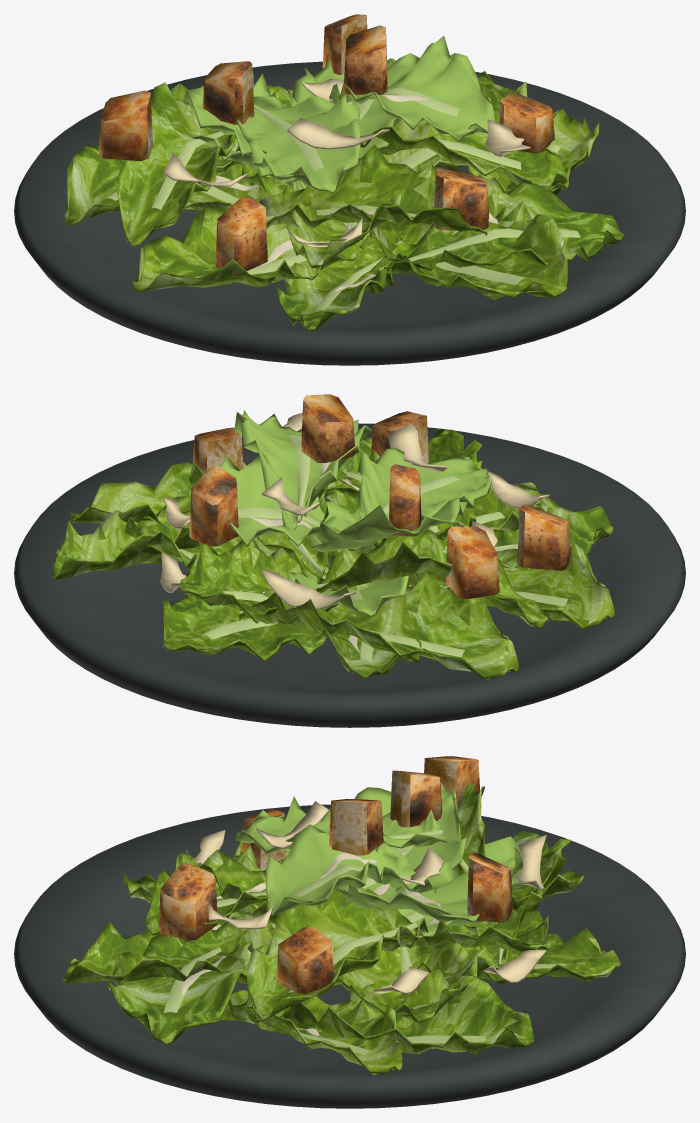
File: salada-caesar.glb
3 views of the same model, one above another, from view 1: azimuth 30°, elevation 25°; view 2: azimuth 150°, elevation 25°; view 3: azimuth 270°, elevation 25° (orthographic).
Parts seen in each view (by area): view 1: SM_Caesar_REAL-alface-romana, Prato003, SM_Caesar_REAL-coracao-romana, SM_Caesar_REAL-massa-assada, SM_Caesar_REAL-talo-romana, SM_Caesar_REAL-parmesao-curado, SM_Caesar_REAL-miolo, SM_Caesar_REAL-molho-caesar; view 2: Prato003, SM_Caesar_REAL-alface-romana, SM_Caesar_REAL-coracao-romana, SM_Caesar_REAL-massa-assada, SM_Caesar_REAL-parmesao-curado, SM_Caesar_REAL-talo-romana, SM_Caesar_REAL-miolo, SM_Caesar_REAL-molho-caesar; view 3: Prato003, SM_Caesar_REAL-alface-romana, SM_Caesar_REAL-coracao-romana, SM_Caesar_REAL-massa-assada, SM_Caesar_REAL-parmesao-curado, SM_Caesar_REAL-miolo, SM_Caesar_REAL-talo-romana, SM_Caesar_REAL-molho-caesar.
Part boxes in pixels (x1,y1,x2,y2): SM_Caesar_REAL-alface-romana: (65,71,624,331); Prato003: (14,61,685,365); SM_Caesar_REAL-coracao-romana: (184,36,495,193); SM_Caesar_REAL-massa-assada: (98,14,554,273); SM_Caesar_REAL-talo-romana: (106,87,580,311); SM_Caesar_REAL-parmesao-curado: (163,71,530,246); SM_Caesar_REAL-miolo: (147,15,504,229); SM_Caesar_REAL-molho-caesar: (214,95,498,291); Prato003: (14,423,685,727); SM_Caesar_REAL-alface-romana: (51,428,614,679); SM_Caesar_REAL-coracao-romana: (220,410,492,616); SM_Caesar_REAL-massa-assada: (189,394,570,598); SM_Caesar_REAL-parmesao-curado: (160,413,549,610); SM_Caesar_REAL-talo-romana: (179,435,568,662); SM_Caesar_REAL-miolo: (207,416,524,567); SM_Caesar_REAL-molho-caesar: (247,462,513,653); Prato003: (14,804,685,1108); SM_Caesar_REAL-alface-romana: (62,784,620,1075); SM_Caesar_REAL-coracao-romana: (235,782,522,947); SM_Caesar_REAL-massa-assada: (158,756,512,993); SM_Caesar_REAL-parmesao-curado: (193,801,546,993); SM_Caesar_REAL-miolo: (260,759,473,915); SM_Caesar_REAL-talo-romana: (111,829,565,1055); SM_Caesar_REAL-molho-caesar: (181,852,440,1036).
Bounding box in the file's own units: 0.212 × 0.076 × 0.212.
8 materials, 3 textured.
